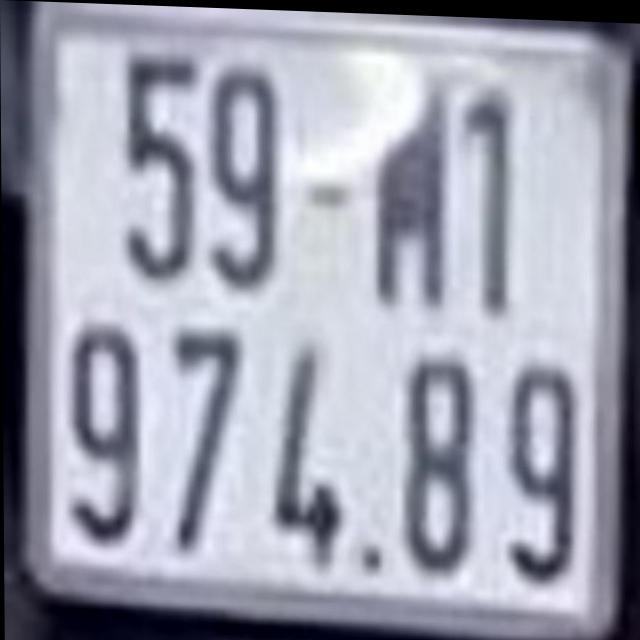1: (464, 87, 511, 311)
4: (272, 345, 342, 556)
5: (126, 45, 191, 271)
7: (171, 325, 237, 550)
8: (407, 355, 472, 569)
9: (505, 358, 575, 580), (75, 327, 141, 537), (216, 57, 270, 280)
M: (369, 54, 443, 303)
